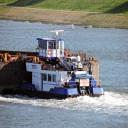tugboat: (22, 30, 106, 104)
